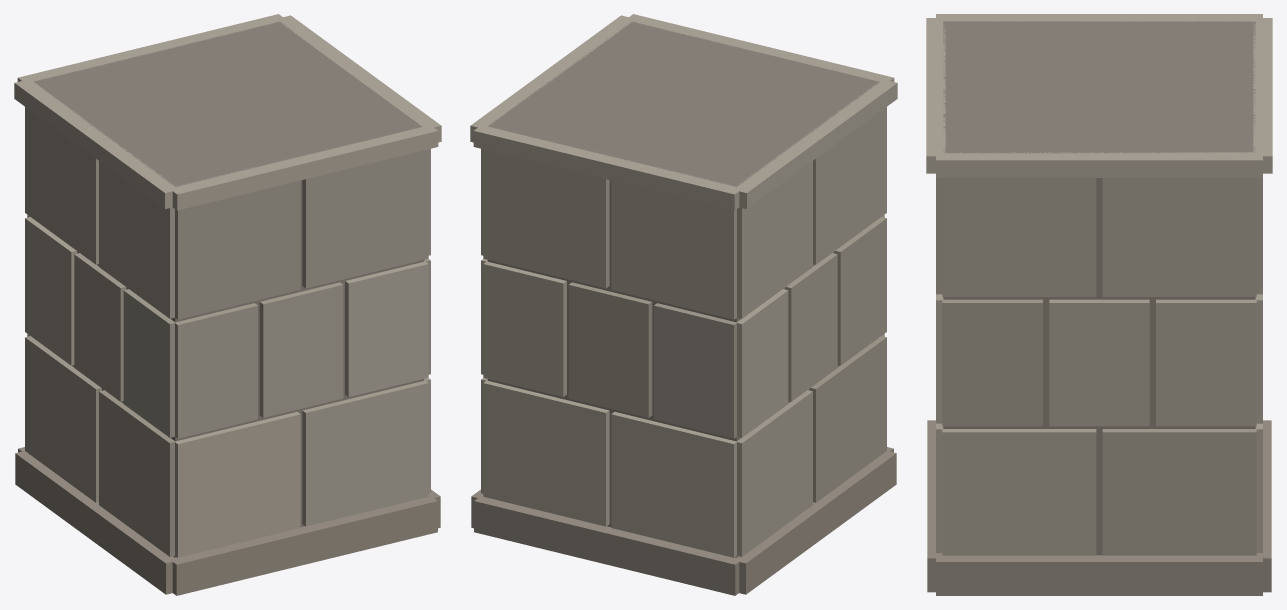
Rendered from dk_wall.gltf.
3 views of the same model, side by side, from view 1: azimuth 30°, elevation 25°; view 2: azimuth 150°, elevation 25°; view 3: azimuth 270°, elevation 25° (orthographic). The views are drawn at different scales.
Visible parts, largest first — view 1: Body; view 2: Body; view 3: Body.
Boxes of the visible parts, left/top/right/bottom form: Body: left=14, top=14, right=441, bottom=595; Body: left=470, top=14, right=897, bottom=595; Body: left=926, top=14, right=1272, bottom=595.
Size of the model in its own units: 3.24 by 4.5 by 3.24.
